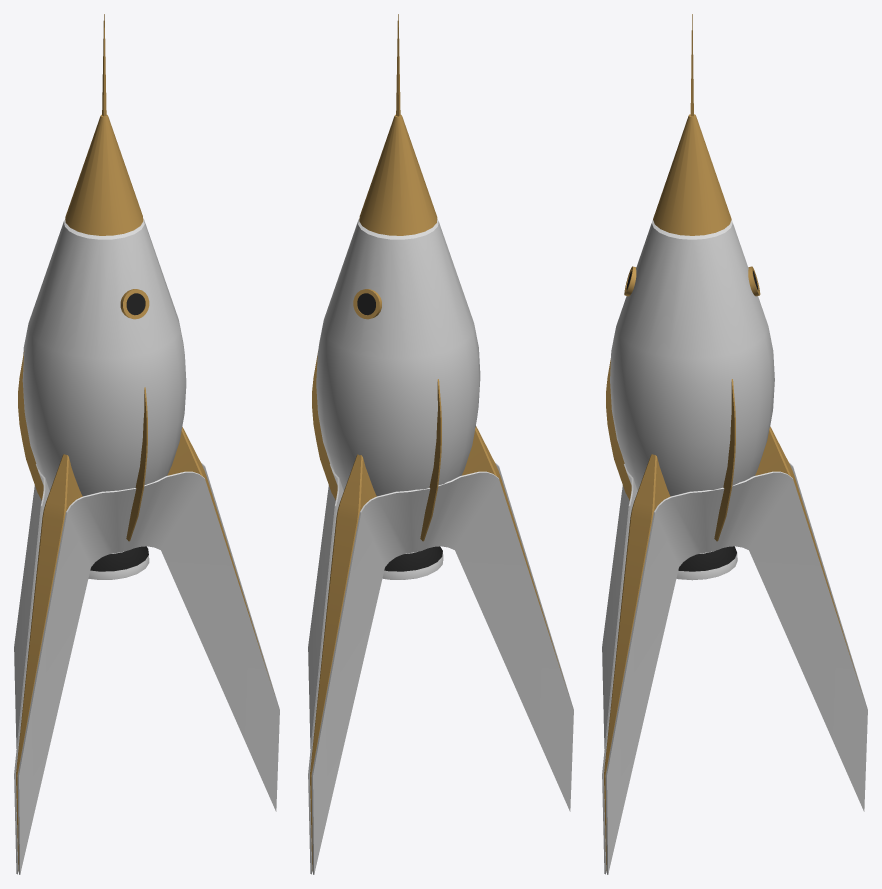
Rendered from centertower.glb.
The picture shows the model from 3 angles, left to right: view 1: azimuth 30°, elevation 25°; view 2: azimuth 150°, elevation 25°; view 3: azimuth 270°, elevation 25°; orthographic projection.
Visible parts, largest first — view 1: Cylinder.012, Plane.003, Cylinder.010, Plane.005, Cylinder.011, Cube.015, Cube.017, Cylinder.015; view 2: Cylinder.012, Plane.005, Cylinder.009, Plane.004, Cylinder.010, Cube.017, Cube.016, Cylinder.013; view 3: Cylinder.012, Plane.004, Cylinder.011, Plane.003, Cylinder.009, Cube.016, Cube.015.
Part boxes in pixels (x1,y1,x2,y2): Cylinder.012: [22, 114, 186, 579]; Plane.003: [17, 471, 279, 874]; Cylinder.010: [16, 454, 82, 870]; Plane.005: [14, 464, 49, 874]; Cylinder.011: [167, 427, 271, 685]; Cube.015: [126, 387, 147, 541]; Cube.017: [18, 351, 43, 500]; Cylinder.015: [120, 289, 149, 319]; Cylinder.012: [316, 114, 480, 579]; Plane.005: [311, 471, 573, 874]; Cylinder.009: [310, 454, 376, 870]; Plane.004: [308, 464, 343, 874]; Cylinder.010: [462, 426, 565, 685]; Cube.017: [420, 379, 441, 541]; Cube.016: [312, 353, 337, 500]; Cylinder.013: [353, 289, 381, 319]; Cylinder.012: [610, 114, 774, 580]; Plane.004: [605, 471, 867, 874]; Cylinder.011: [604, 454, 670, 870]; Plane.003: [602, 464, 637, 874]; Cylinder.009: [755, 426, 859, 685]; Cube.016: [714, 379, 735, 541]; Cube.015: [606, 358, 631, 500].
Bounding box in the file's own units: 20.24 × 58 × 17.53.
